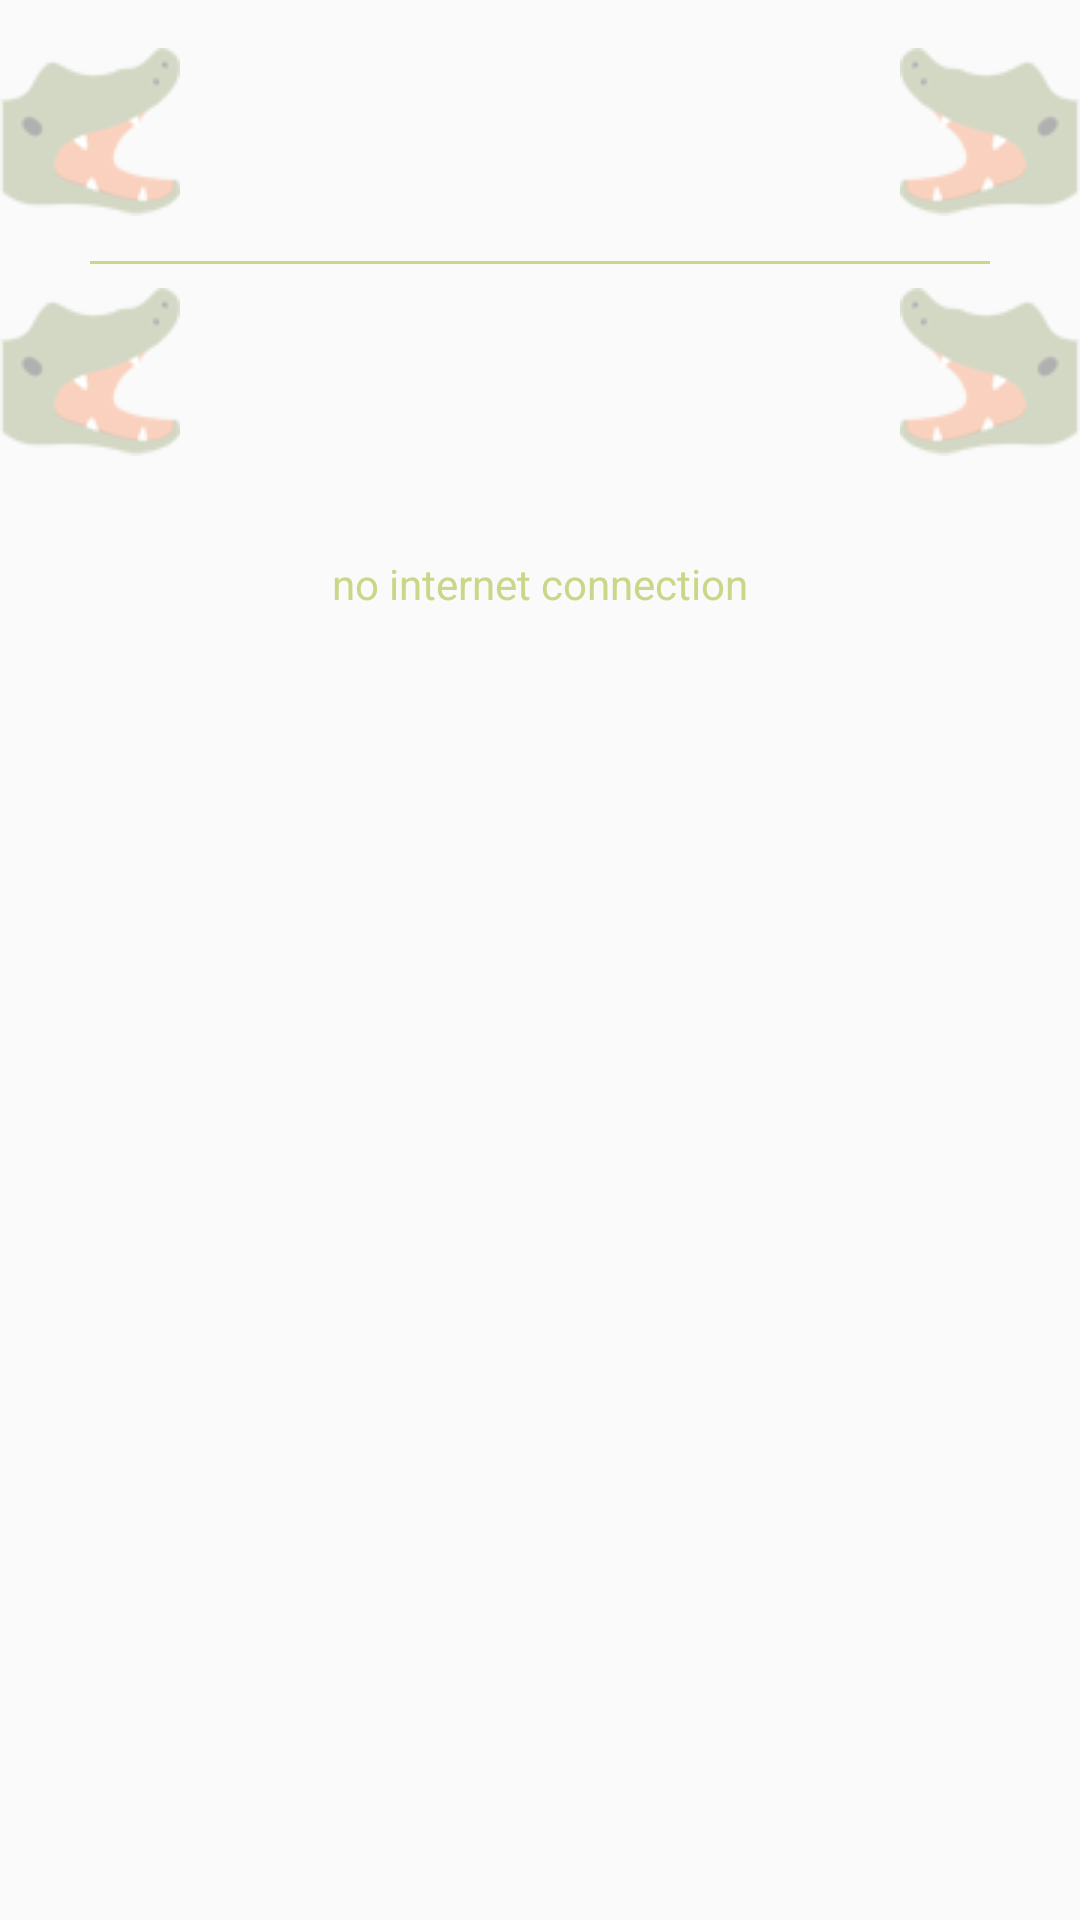

Where icons sit on this 1080*1920 app screen, as bbox(x1, y1, x2, y2):
croc left: bbox(3, 48, 180, 214), bbox(3, 288, 180, 454)
croc right: bbox(900, 48, 1077, 214), bbox(900, 288, 1077, 454)
